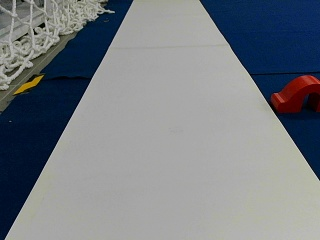bridge: (271, 75, 319, 111)
